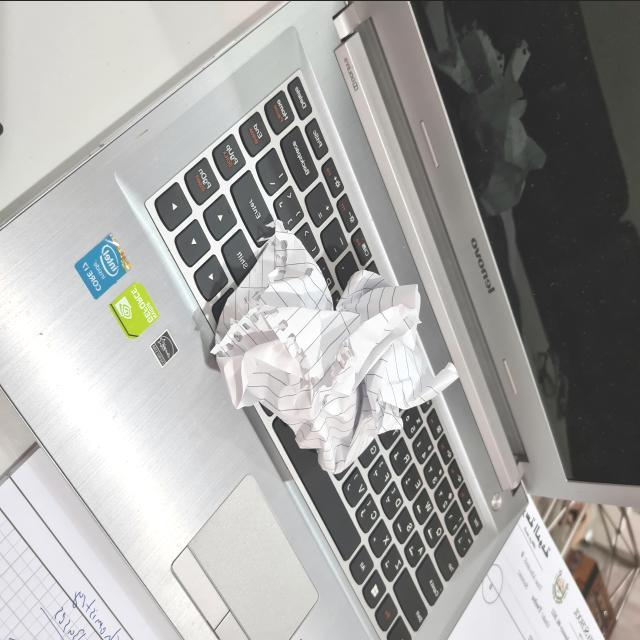Paper: (165, 199, 460, 475)
